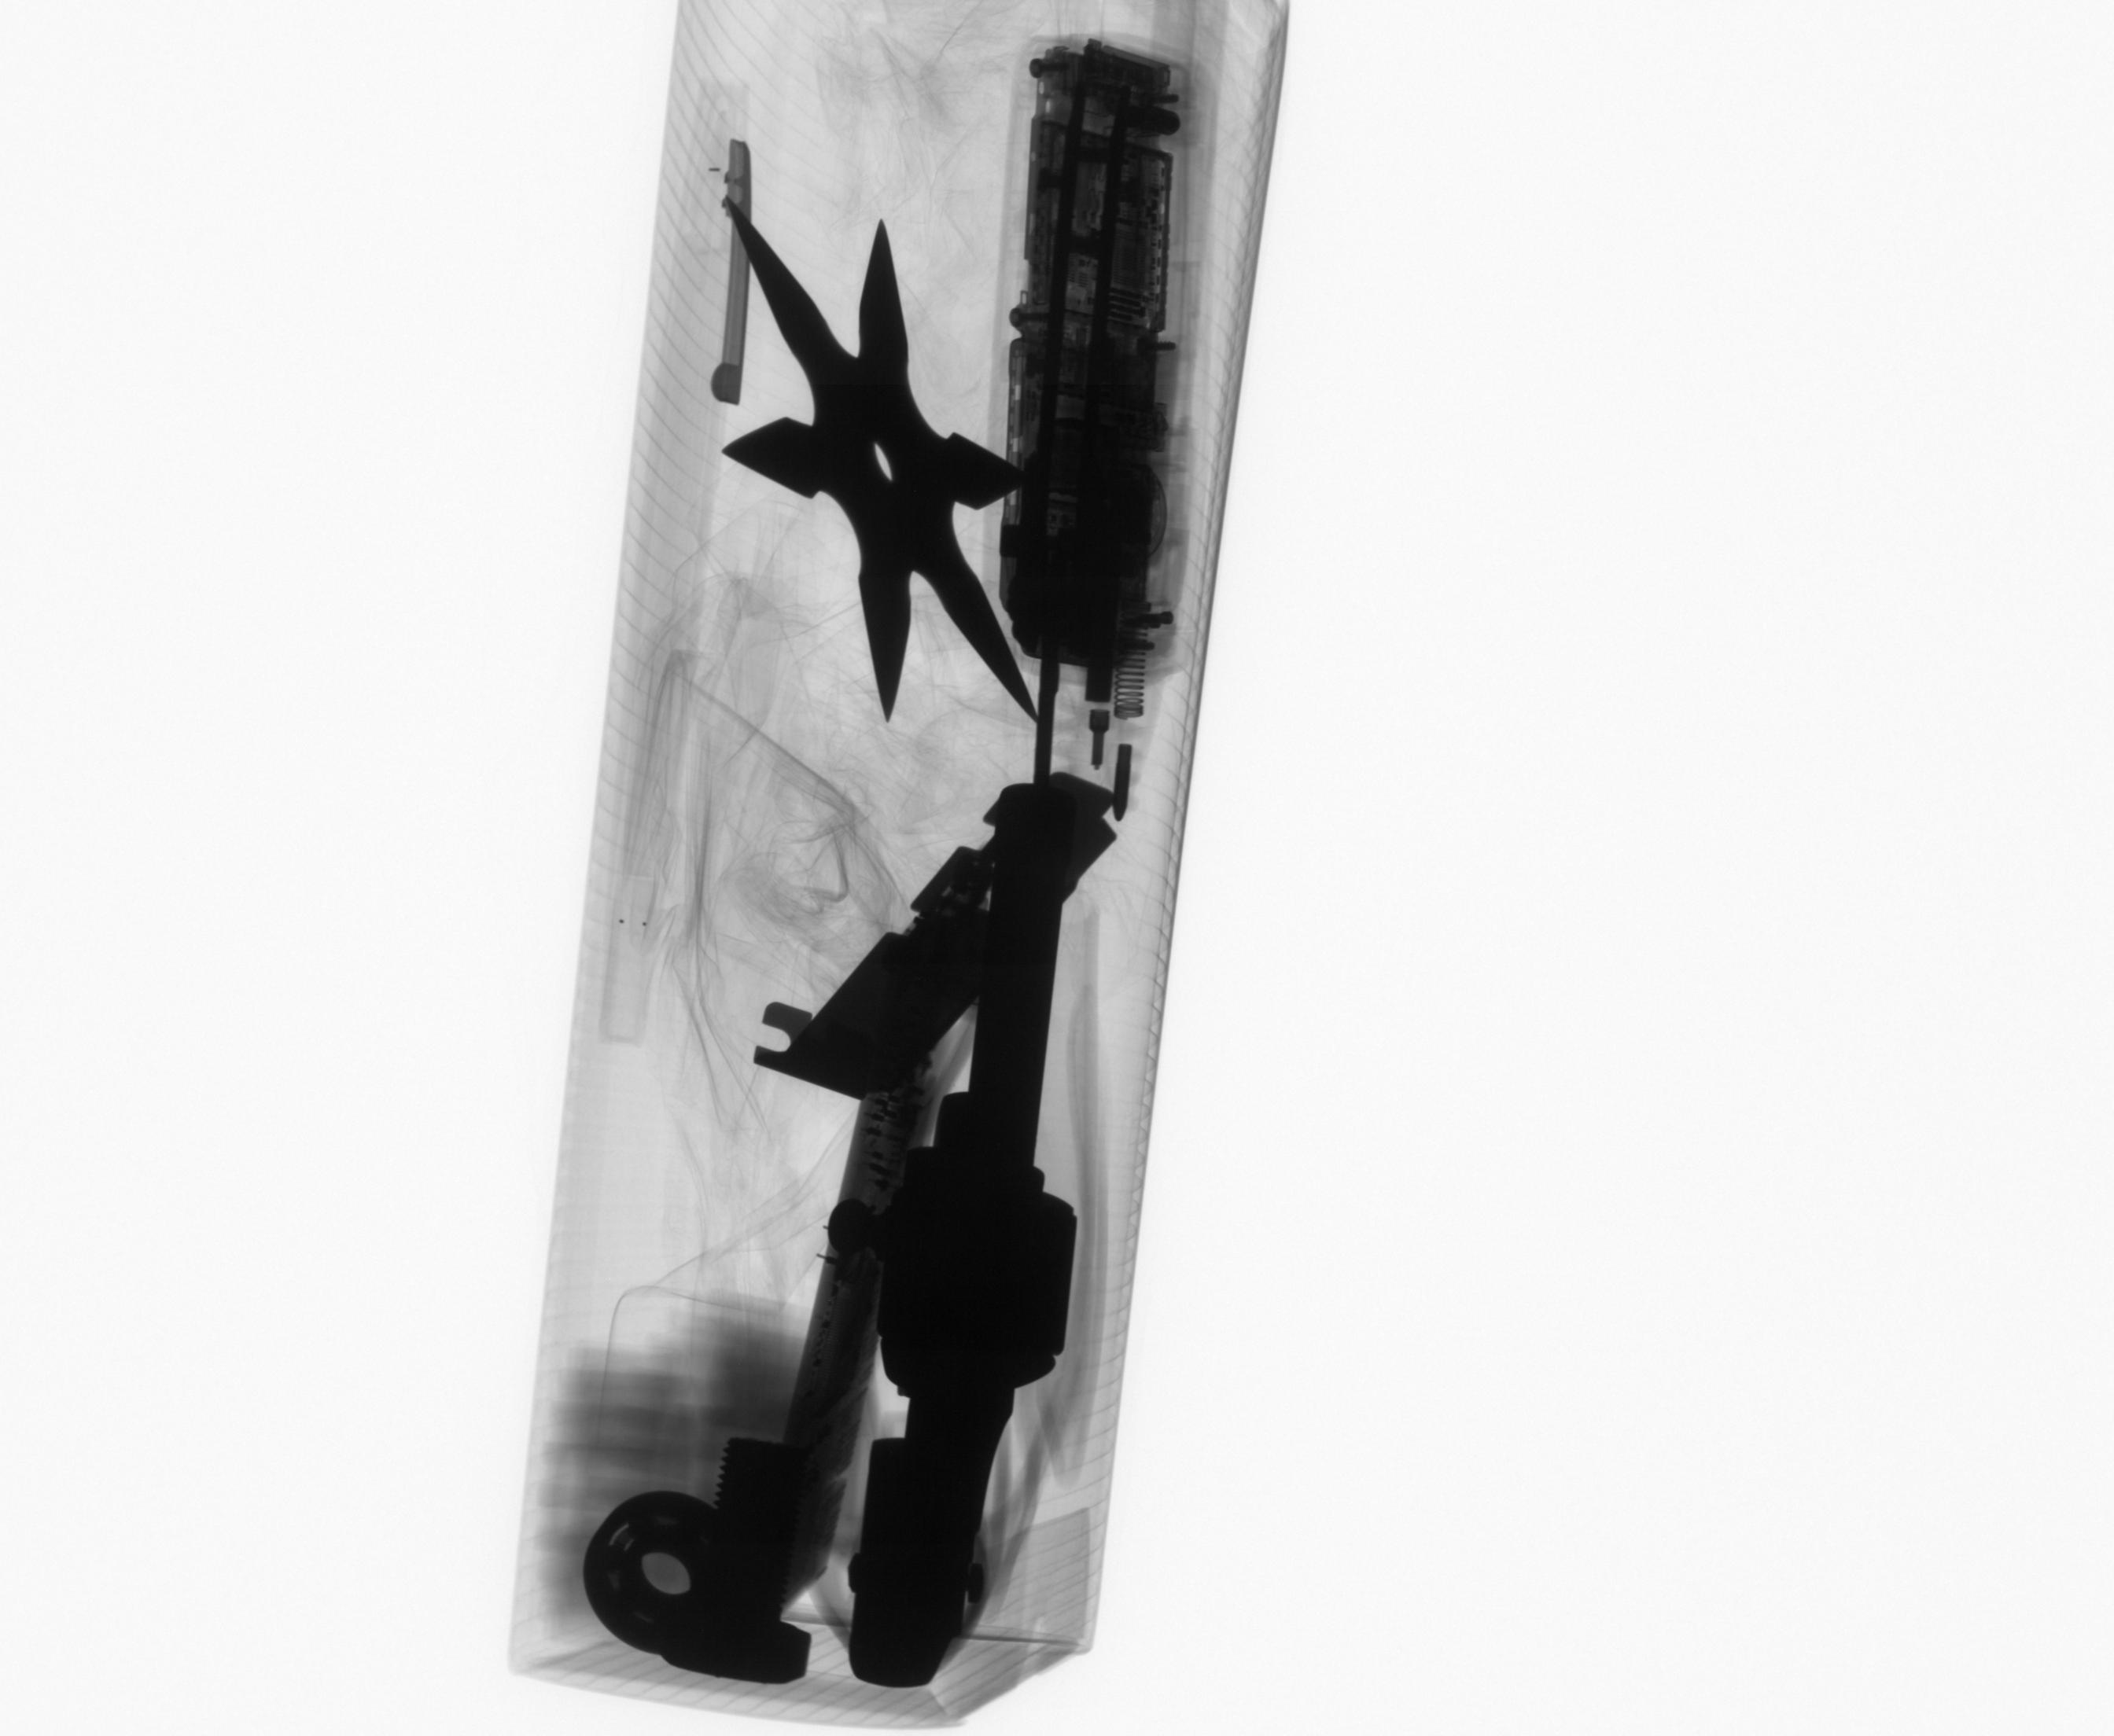Handgun: (836, 778, 1099, 1699)
Shuriken: (713, 189, 1059, 730)
